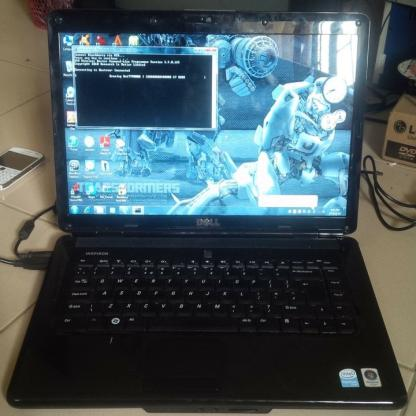Normal: (57, 24, 357, 226)
